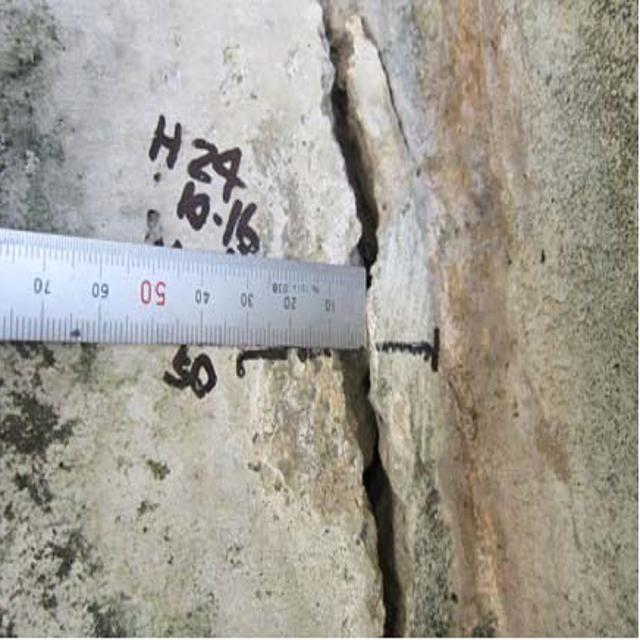crack: (312, 16, 442, 633)
